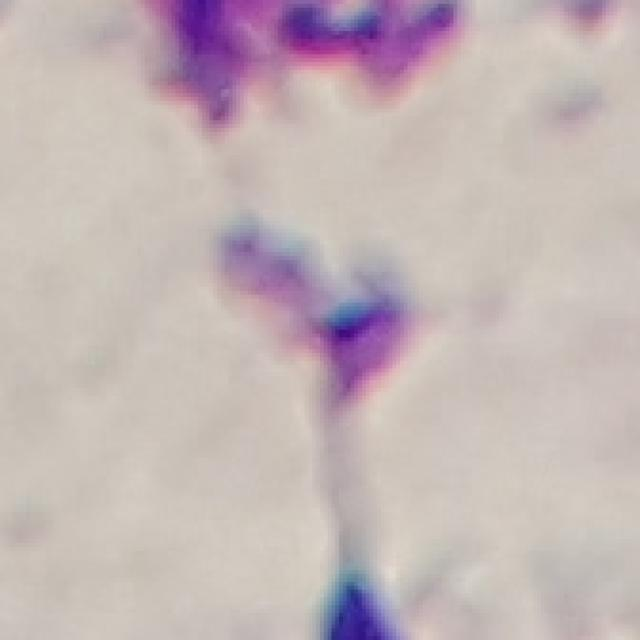non-sperm: (210, 196, 414, 590)
